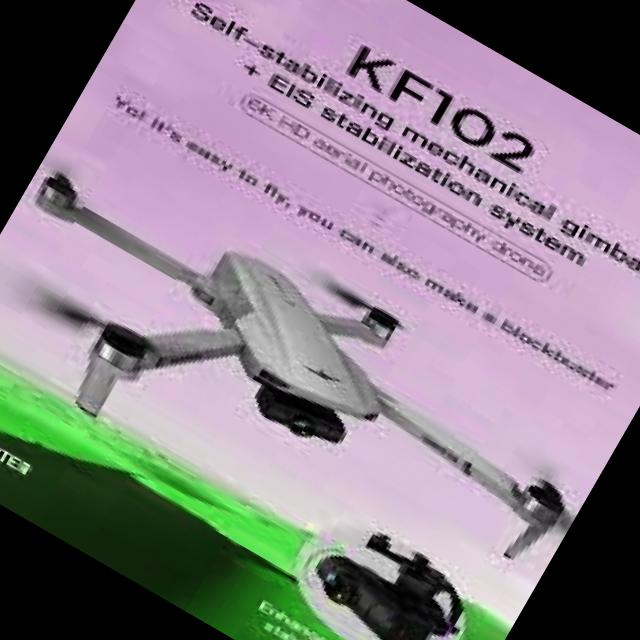drone: (0, 115, 623, 640)
